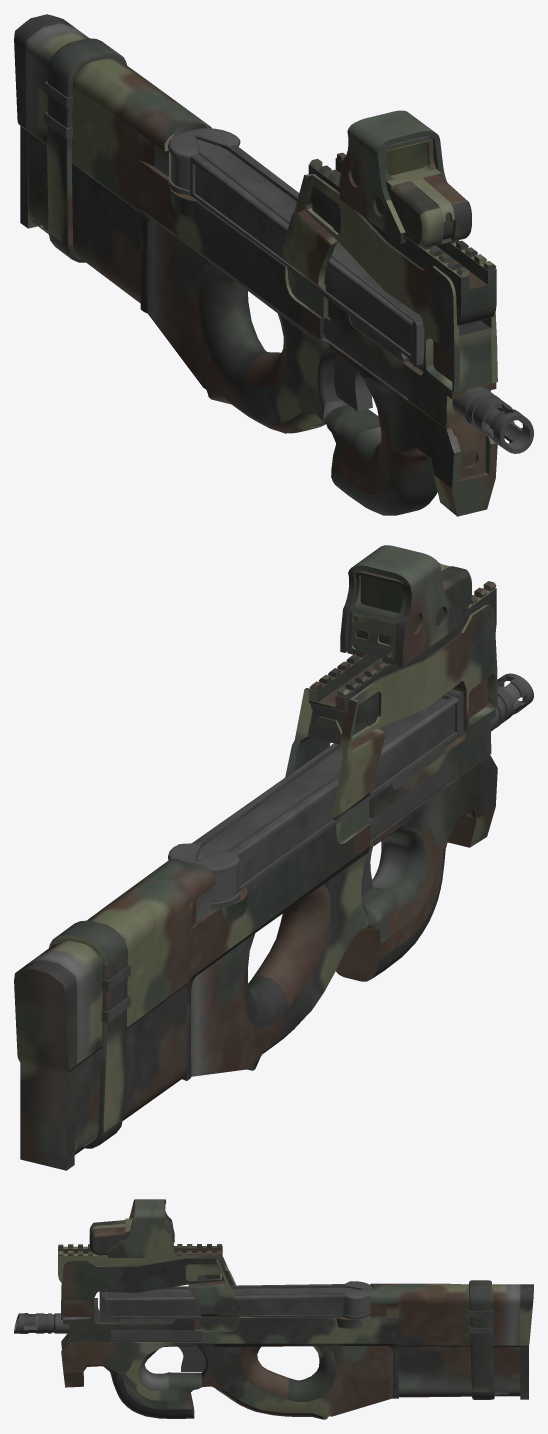
The model's file is Vakulenchik-P90-2.fbx.
The picture shows the model from 3 angles, top to bottom: view 1: azimuth 30°, elevation 25°; view 2: azimuth 150°, elevation 25°; view 3: azimuth 270°, elevation 25°; orthographic projection. The views are drawn at different scales.
Parts seen in each view (by area): view 1: основа, прицельная база, магазин, накладка на прицел, прицельное шасси, задняя накладка на приклад, прицел, дуло, задняя открывашка базы, нижняя часть затвора, курок, передняя накладка на прицел (+2 smaller); view 2: основа, прицельная база, магазин, задняя открывашка базы, накладка на прицел, задняя накладка на приклад, прицельное шасси, прицел, нижняя часть затвора, нижняя часть прицела, дуло, задняя накладка на прицел; view 3: основа, прицельная база, магазин, накладка на прицел, прицельное шасси, задняя накладка на приклад, задняя открывашка базы, прицел, нижняя часть затвора, дуло, курок, затвор (+1 smaller).
Part boxes in pixels (bbox=[...]): основа: bbox=[25, 23, 497, 516]; прицельная база: bbox=[281, 174, 497, 478]; магазин: bbox=[168, 128, 424, 366]; накладка на прицел: bbox=[339, 110, 446, 243]; прицельное шасси: bbox=[308, 152, 496, 325]; задняя накладка на приклад: bbox=[47, 38, 126, 262]; прицел: bbox=[382, 136, 471, 248]; дуло: bbox=[452, 386, 533, 453]; задняя открывашка базы: bbox=[14, 14, 74, 228]; нижняя часть затвора: bbox=[324, 317, 408, 398]; курок: bbox=[334, 356, 372, 411]; передняя накладка на прицел: bbox=[387, 141, 427, 175]; основа: bbox=[28, 755, 497, 1154]; прицельная база: bbox=[285, 605, 497, 842]; магазин: bbox=[168, 689, 463, 909]; задняя открывашка базы: bbox=[14, 959, 76, 1170]; накладка на прицел: bbox=[340, 545, 463, 666]; задняя накладка на приклад: bbox=[49, 920, 127, 1148]; прицельное шасси: bbox=[308, 581, 496, 734]; прицел: bbox=[347, 563, 471, 665]; нижняя часть затвора: bbox=[368, 762, 450, 839]; нижняя часть прицела: bbox=[351, 612, 395, 660]; дуло: bbox=[491, 673, 533, 731]; задняя накладка на прицел: bbox=[360, 575, 402, 613]; основа: bbox=[61, 1283, 520, 1419]; прицельная база: bbox=[61, 1256, 242, 1343]; магазин: bbox=[99, 1281, 372, 1320]; накладка на прицел: bbox=[108, 1199, 174, 1257]; прицельное шасси: bbox=[58, 1244, 222, 1283]; задняя накладка на приклад: bbox=[469, 1280, 494, 1399]; задняя открывашка базы: bbox=[520, 1284, 533, 1399]; прицел: bbox=[89, 1209, 170, 1255]; нижняя часть затвора: bbox=[110, 1329, 202, 1341]; дуло: bbox=[14, 1313, 68, 1333]; курок: bbox=[178, 1346, 205, 1371]; затвор: bbox=[94, 1298, 175, 1323].
Bounding box in the file's own units: 15.12 × 83.35 × 186.
Materials: 17 (17 with a texture image).
